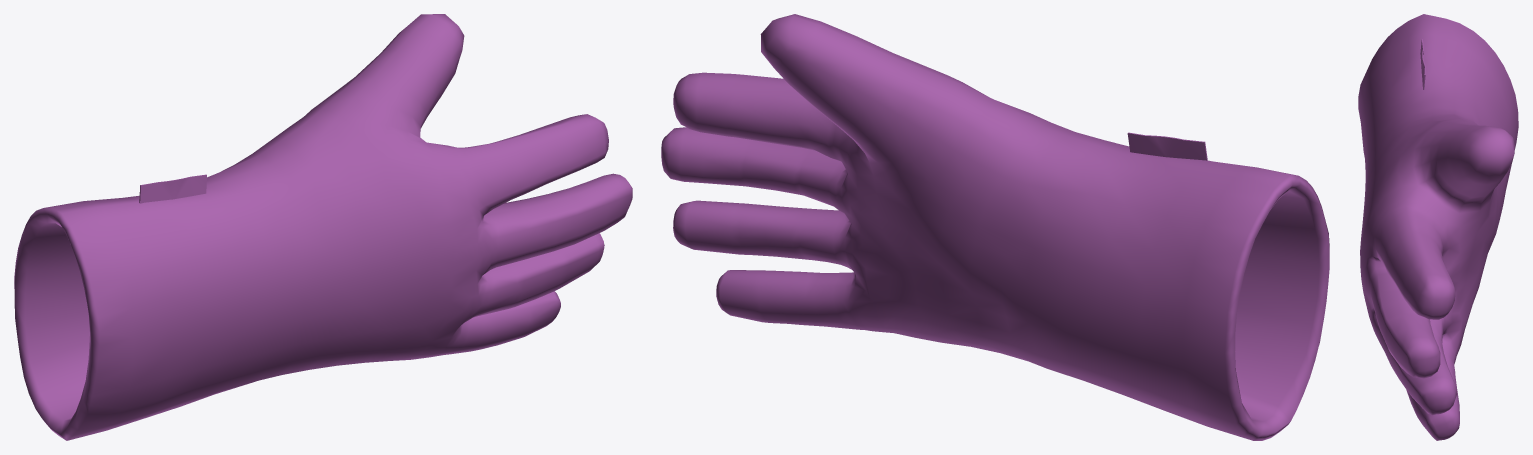
The model's file is Luva.fbx.
The picture shows the model from 3 angles, left to right: view 1: azimuth 30°, elevation 25°; view 2: azimuth 150°, elevation 25°; view 3: azimuth 270°, elevation 25°; orthographic projection. The views are drawn at different scales.
Parts seen in each view (by area): view 1: Luvas; view 2: Luvas; view 3: Luvas.
Part boxes in pixels (box(x1,y1,x2,y2)): Luvas: box(14, 14, 632, 440); Luvas: box(661, 14, 1329, 440); Luvas: box(1358, 14, 1518, 440).
Bounding box in the file's own units: 8.12 × 4.22 × 2.22.
